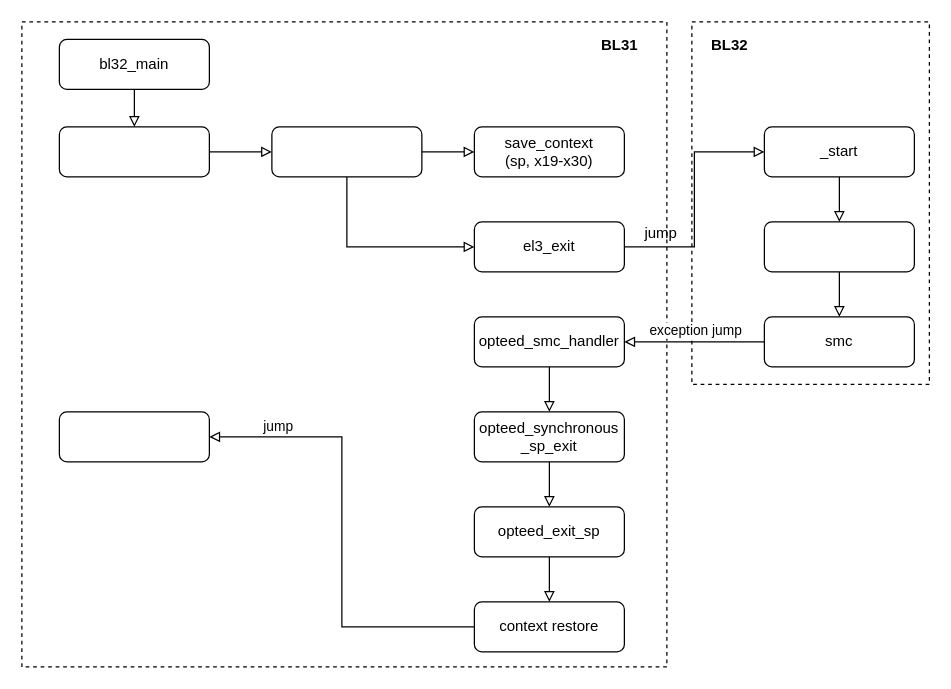
Image size: 951x689. Some labels were removed from this diagram. The box of each missing label's shape, as (x1, y1, x2, y2) in pixels:
bl32_init: (58, 126, 209, 177)
bl32_startup: (763, 221, 914, 272)
opteed_enter_sp: (271, 126, 422, 177)
resume_bl32_main: (58, 411, 209, 462)
